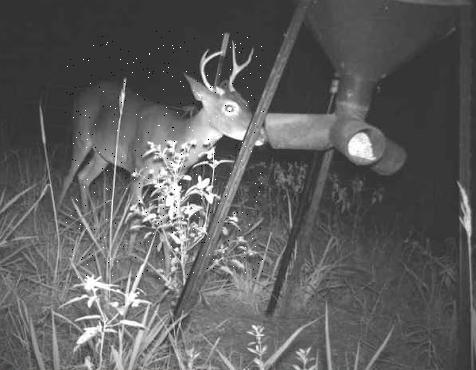Deer: (64, 30, 264, 279)
